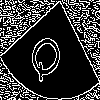Q: (25, 24, 71, 86)
